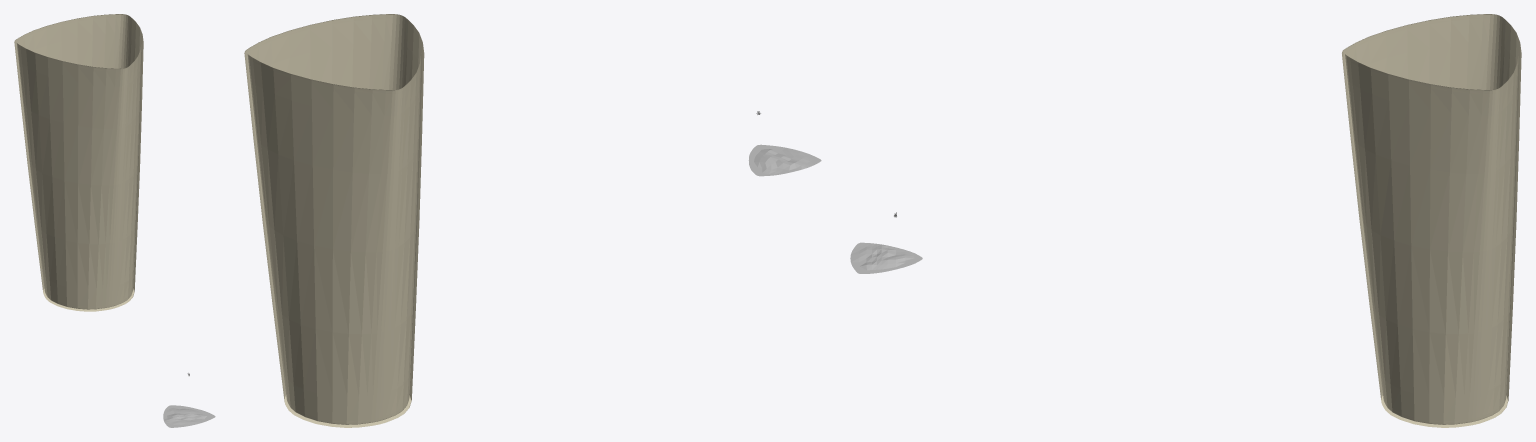
The model's file is plant2.gltf.
3 views of the same model, side by side, from view 1: azimuth 30°, elevation 25°; view 2: azimuth 150°, elevation 25°; view 3: azimuth 270°, elevation 25° (orthographic). The views are drawn at different scales.
Visible parts, largest first — view 1: archmodels, archmodel0; view 2: archmodels, archmodel0; view 3: archmodels, archmodel0.
Part boxes in pixels (x1,y1,x2,y2): archmodels: (14, 14, 143, 311); archmodel0: (163, 405, 215, 427); archmodels: (244, 14, 424, 427); archmodel0: (748, 144, 821, 176); archmodels: (1342, 14, 1521, 427); archmodel0: (850, 242, 922, 273).
Bounding box in the file's own units: 26.23 × 33.62 × 58.62.
